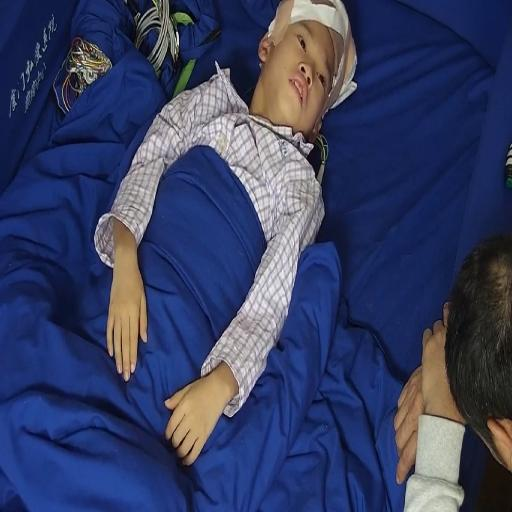Seizure: (269, 13, 342, 143)
